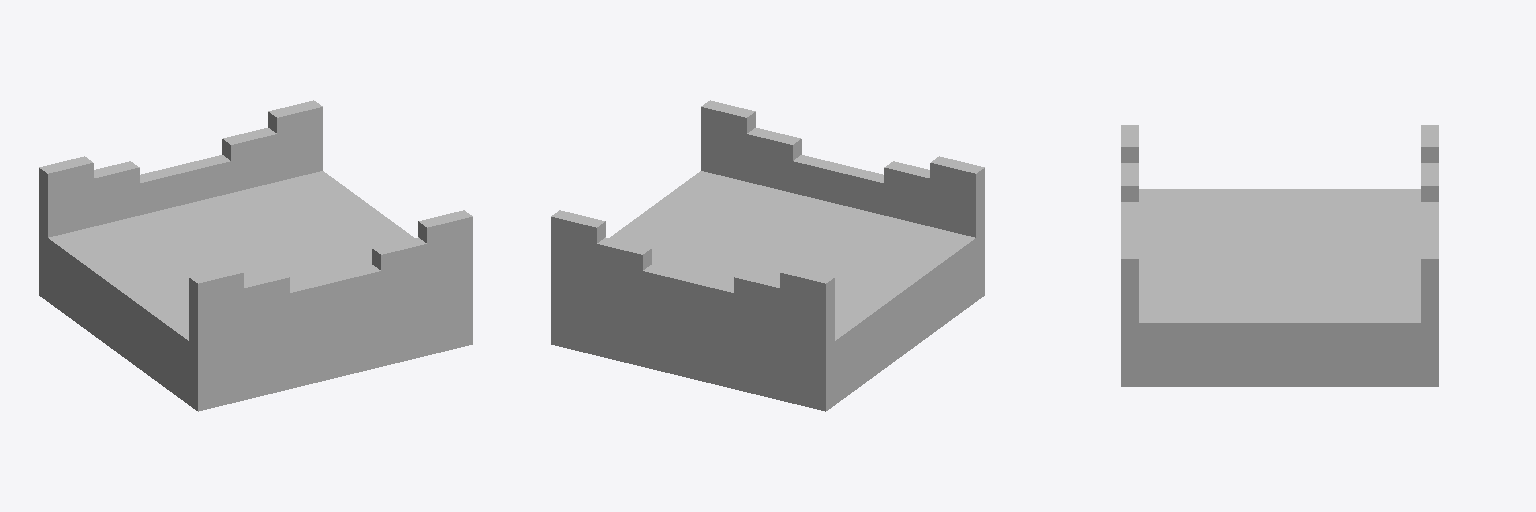
File: platform 2.obj
3 renders of one model, left to right at view 1: azimuth 30°, elevation 25°; view 2: azimuth 150°, elevation 25°; view 3: azimuth 270°, elevation 25°, orthographic.
Parts seen in each view (by area): view 1: object 1; view 2: object 1; view 3: object 1.
Part boxes in pixels (left/top/right/bottom): object 1: left=39, top=100, right=472, bottom=411; object 1: left=551, top=100, right=984, bottom=411; object 1: left=1121, top=125, right=1438, bottom=386.
Bounding box in the file's own units: 1.8 × 0.8 × 1.8.